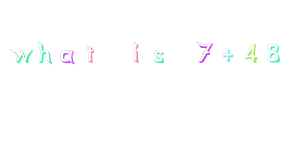+: (220, 46, 235, 62)
4: (243, 41, 259, 63)
7: (196, 41, 214, 64)
8: (265, 41, 281, 64)
a: (58, 49, 76, 64)
h: (37, 40, 52, 64)
i: (130, 41, 141, 63)
s: (152, 48, 165, 63)
t: (84, 44, 95, 62)
w: (9, 46, 33, 64)
